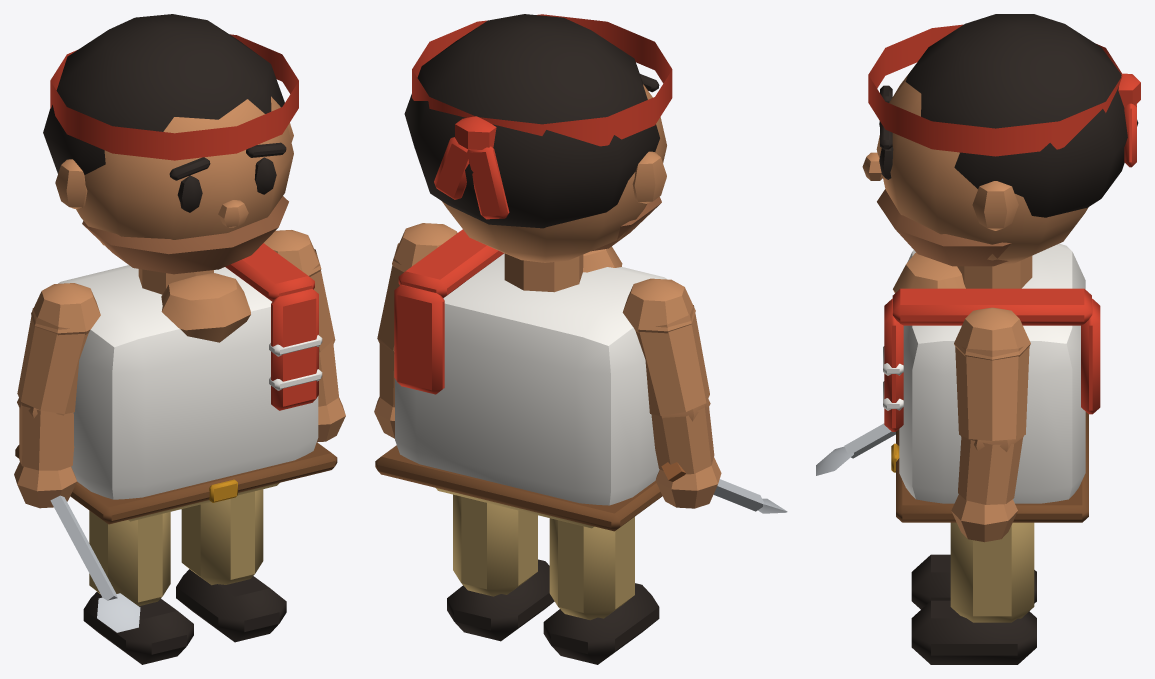
File: bhurji_wala.glb
3 views of the same model, side by side, from view 1: azimuth 30°, elevation 25°; view 2: azimuth 150°, elevation 25°; view 3: azimuth 270°, elevation 25° (orthographic). The views are drawn at different scales.
Visible parts, largest first — view 1: body, head, arm_r, leg_l, leg_r, arm_l; view 2: body, head, arm_r, leg_r, leg_l, arm_l; view 3: head, body, arm_l, leg_l, leg_r, arm_r.
Part boxes in pixels (x1=…): body: x1=15, y1=243, x2=337, y2=524; head: x1=43, y1=14, x2=298, y2=274; arm_r: x1=14, y1=283, x2=140, y2=632; leg_l: x1=176, y1=489, x2=286, y2=642; leg_r: x1=83, y1=510, x2=193, y2=664; arm_l: x1=264, y1=230, x2=345, y2=442; body: x1=375, y1=229, x2=667, y2=531; head: x1=404, y1=14, x2=672, y2=262; arm_r: x1=622, y1=278, x2=787, y2=513; leg_r: x1=543, y1=517, x2=659, y2=664; leg_l: x1=447, y1=494, x2=554, y2=641; arm_l: x1=374, y1=223, x2=457, y2=438; head: x1=862, y1=14, x2=1140, y2=266; body: x1=883, y1=243, x2=1100, y2=522; arm_l: x1=951, y1=307, x2=1030, y2=542; leg_l: x1=911, y1=522, x2=1036, y2=664; leg_r: x1=911, y1=554, x2=1036, y2=609; arm_r: x1=816, y1=423, x2=895, y2=475.
Bounding box in the file's own units: 0.598 × 1.04 × 0.5052.
1 material, 1 textured.
